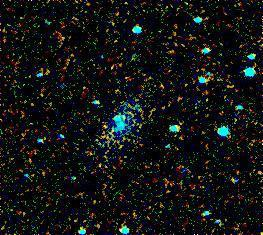star: (98, 105, 128, 135)
